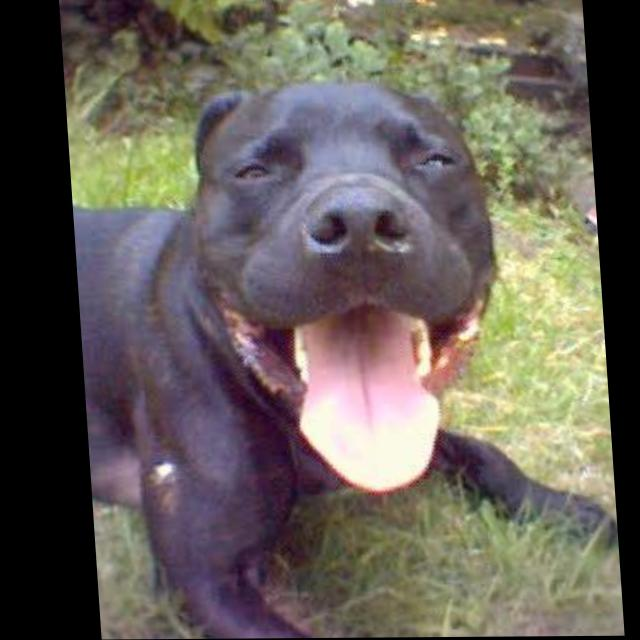amstaff: (64, 78, 616, 640)
